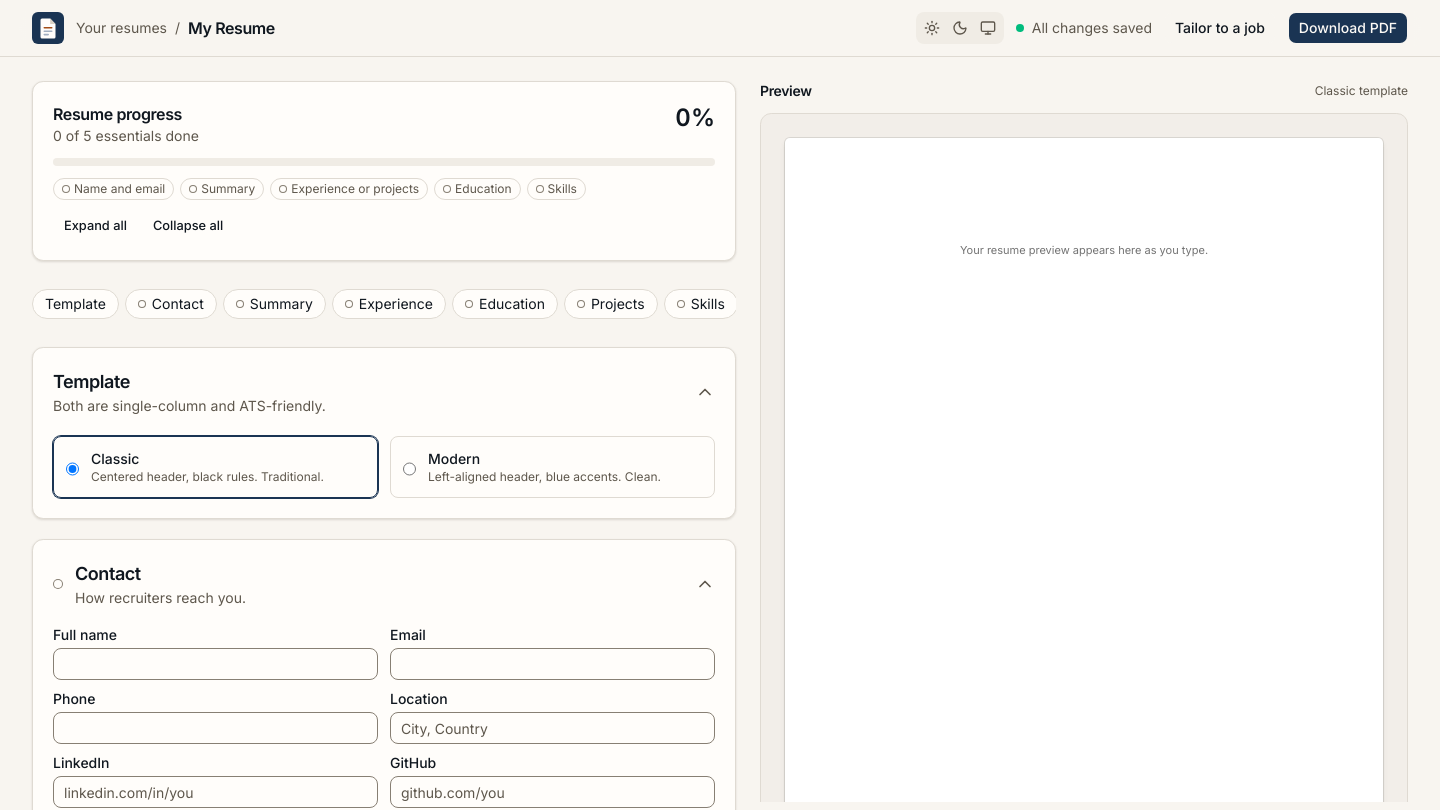
Test: live preview › updates as you type
Expected: the text "Your resume preview appears here as you type." is shown, [960, 243, 1208, 257]
Type "Asha Rao" into the field labelled "Full name" at (216, 664), box [53, 648, 378, 680]
(page scrolled)
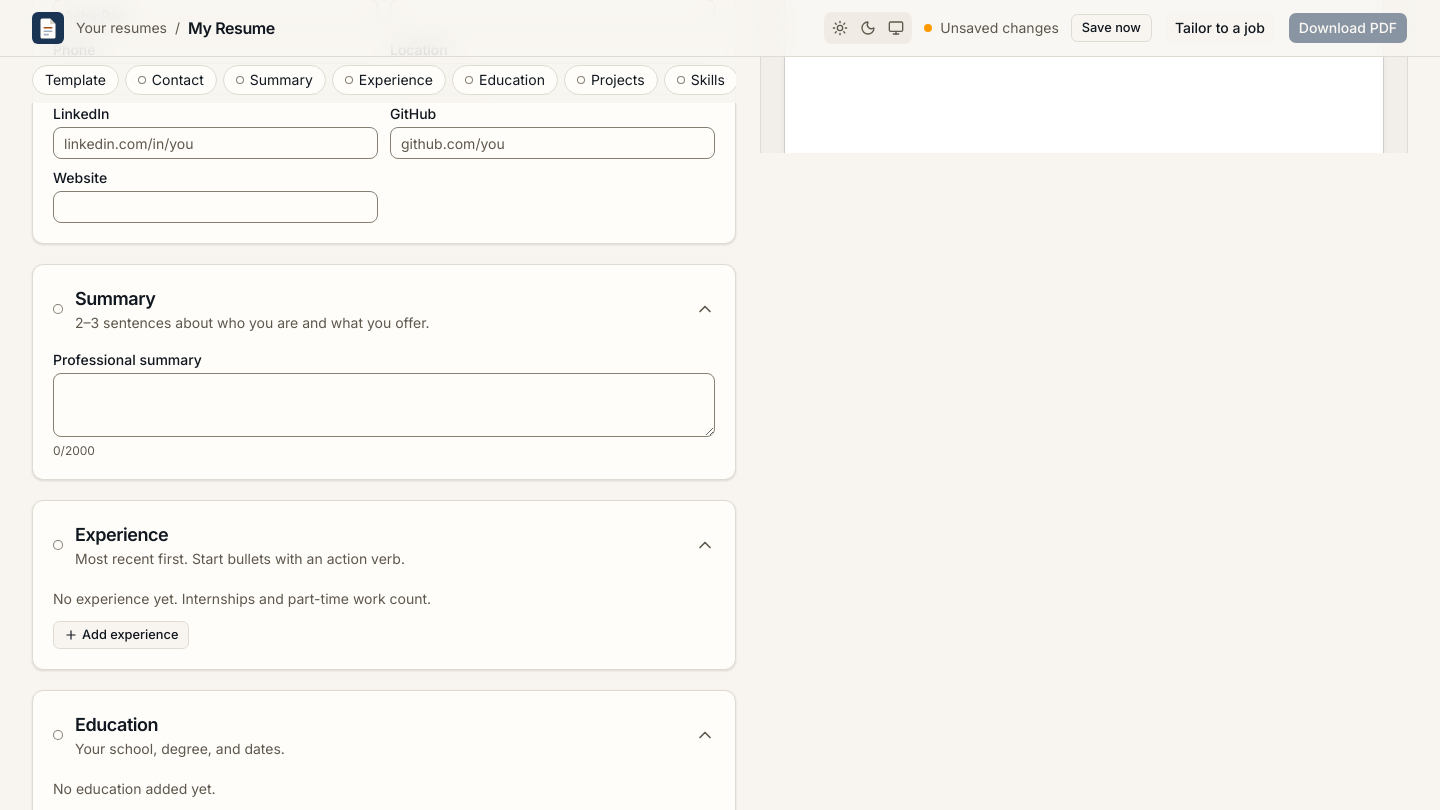
Type "Final-year student" into the text box labelled "Professional summary" at (384, 405), box [53, 373, 715, 437]
(page scrolled)
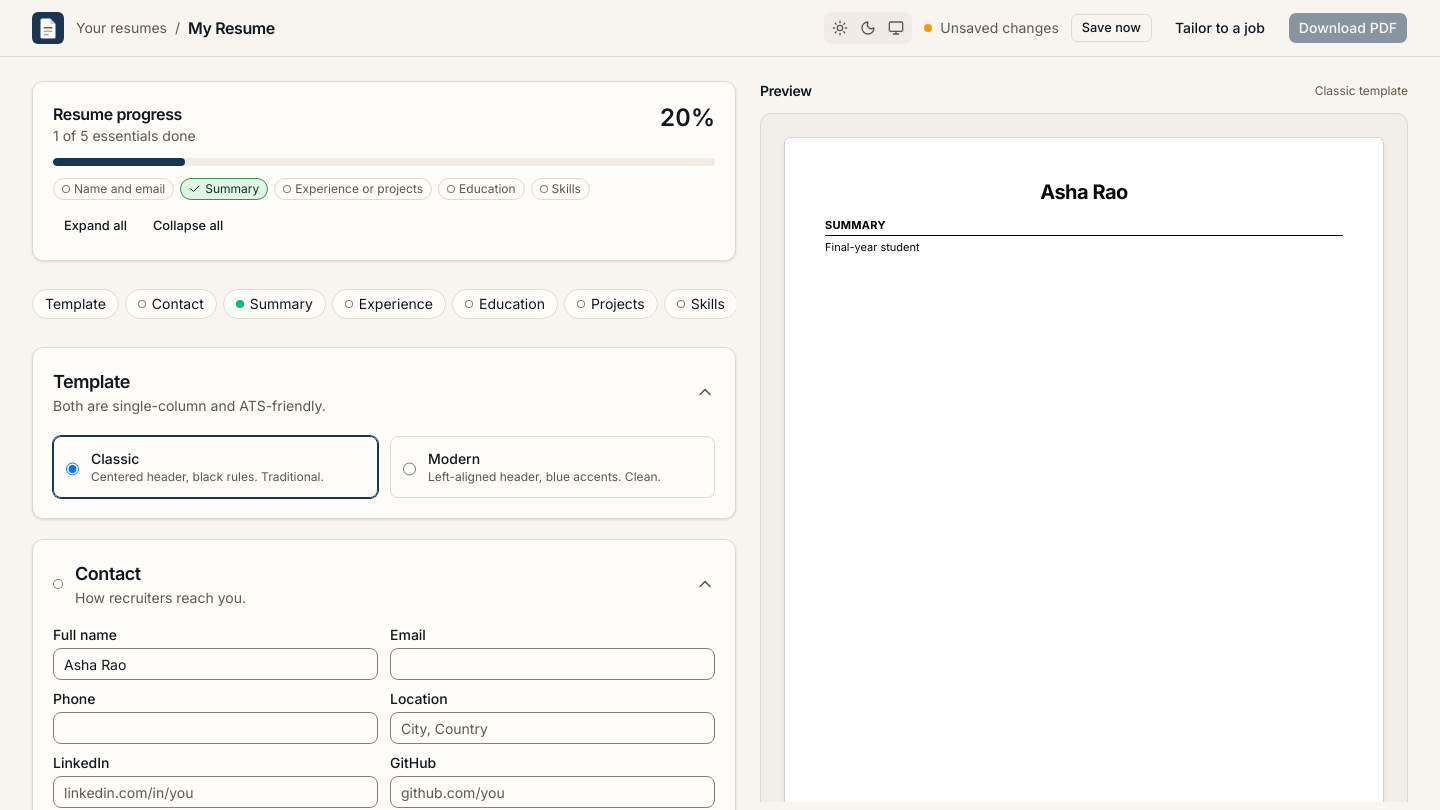
Result: the heading "Asha Rao" is shown at [1040, 180, 1128, 204]
Result: the text "Final-year student" is shown at [825, 240, 920, 254]
